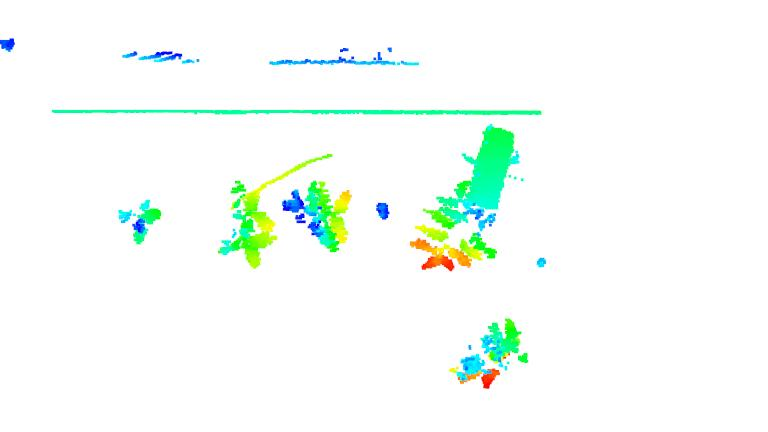chickpea: (410, 190, 500, 273), (215, 181, 280, 267), (449, 318, 528, 388), (282, 182, 355, 253), (118, 200, 164, 244)
